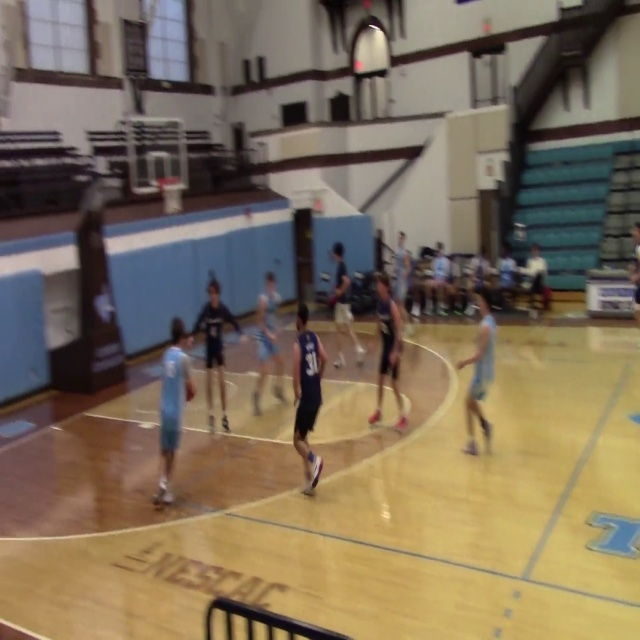Basketball: (185, 381, 196, 401)
